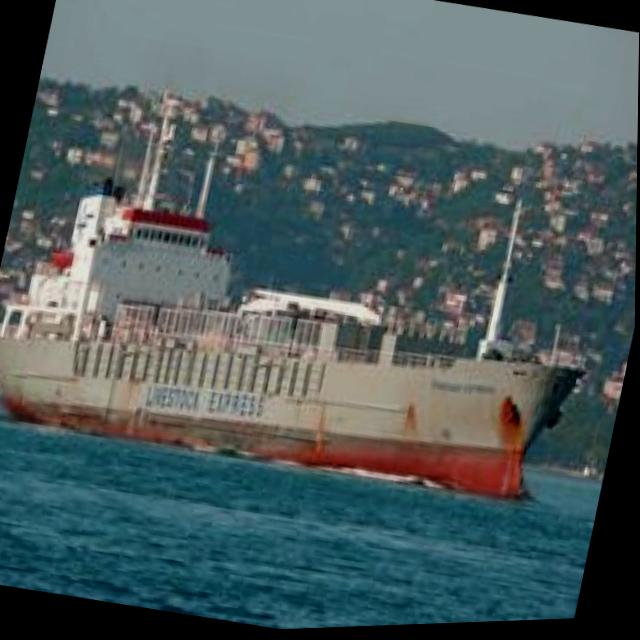ship2: (0, 199, 584, 507)
